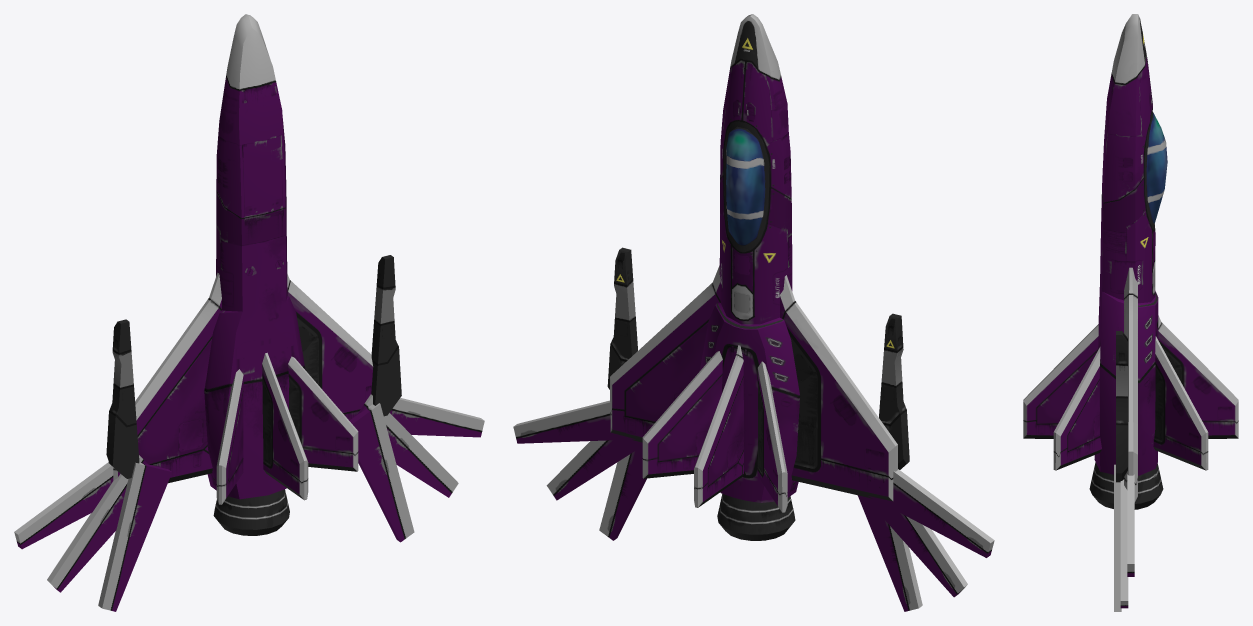
3 renders of one model, left to right at view 1: azimuth 30°, elevation 25°; view 2: azimuth 150°, elevation 25°; view 3: azimuth 270°, elevation 25°, orthographic. The views are drawn at different scales.
Parts seen in each view (by area): view 1: StarSparrow09; view 2: StarSparrow09; view 3: StarSparrow09.
Boxes of the visible parts, x1=… form: StarSparrow09: x1=14, y1=14, x2=484, y2=611; StarSparrow09: x1=513, y1=14, x2=994, y2=611; StarSparrow09: x1=1023, y1=14, x2=1238, y2=611.
Bounding box in the file's own units: 1023 × 1160 × 427.
Materials: 1 (1 with a texture image).
